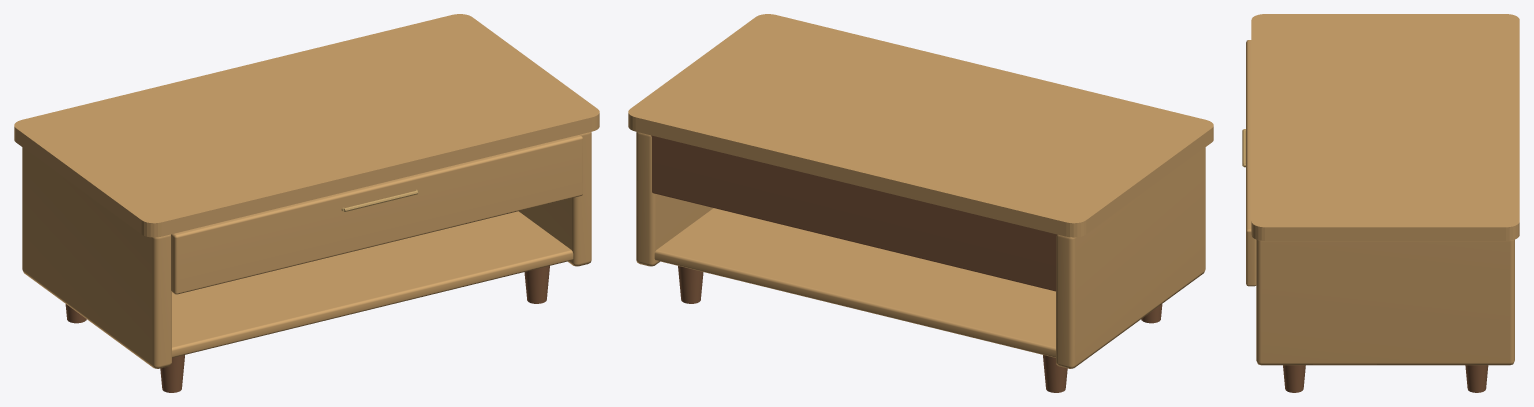
The model's file is table-current.glb.
The picture shows the model from 3 angles, left to right: view 1: azimuth 30°, elevation 25°; view 2: azimuth 150°, elevation 25°; view 3: azimuth 270°, elevation 25°; orthographic projection. The views are drawn at different scales.
Visible parts, largest first — view 1: table-current; view 2: table-current; view 3: table-current.
Boxes of the visible parts, x1,y1,x2,y2 form: table-current: (14,14,599,392); table-current: (628,14,1213,392); table-current: (1242,14,1519,392).
Size of the model in its own units: 1 by 0.4 by 0.55.
